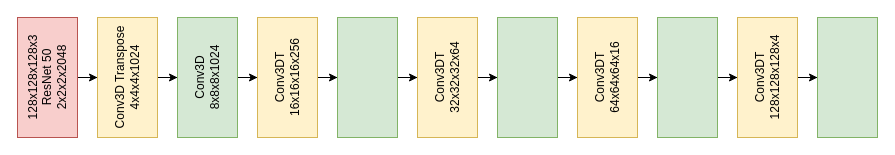
The diagram is 895 pixels wide and 155 high, and some of its shapes have lost their labels. Each missing label, with the centre of its shape:
Conv3D 16x16x16x256: the point at 367,77
Conv3D 32x32x32x64: the point at 527,77
Conv3D 64x64x64x16: the point at 687,77
Conv3D, Softmax 128x128x128x4: the point at 847,77
